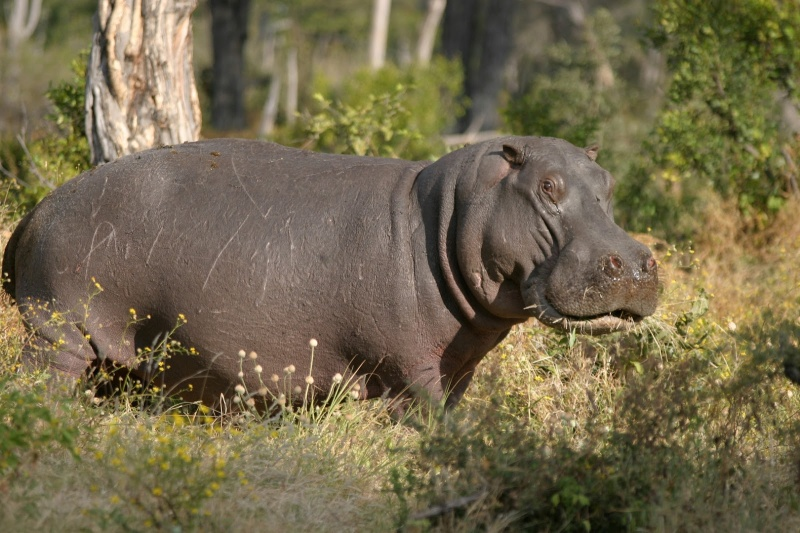hipopotamo: (8, 129, 660, 424)
